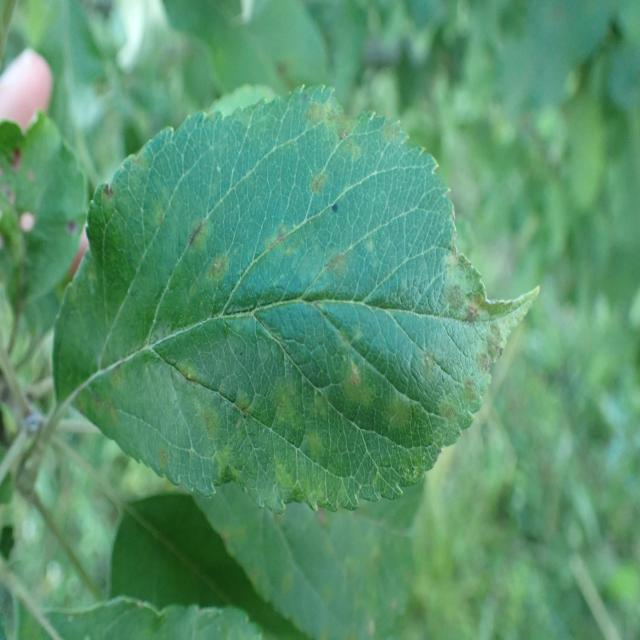scab: (414, 217, 533, 461), (277, 76, 420, 209), (164, 350, 263, 513), (306, 308, 395, 458), (133, 199, 234, 292), (267, 219, 361, 307), (74, 312, 138, 434), (88, 137, 130, 224)
